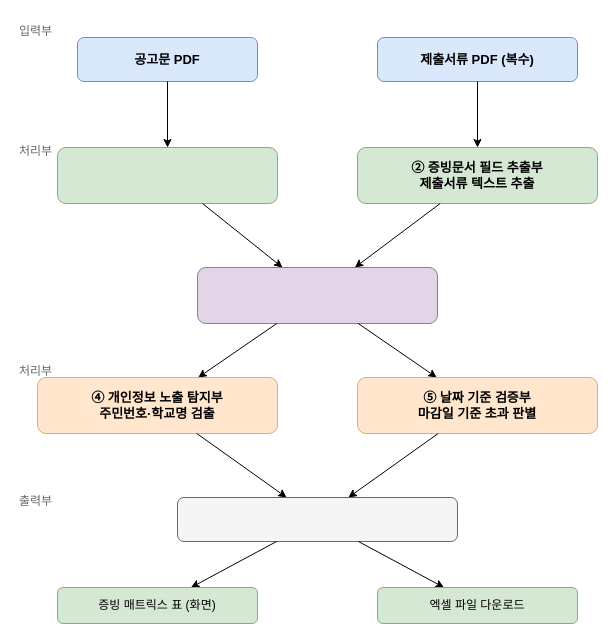
This 615x641 diagram has some shape labels left out. Here are the shapes that lost their labels. From the top down, the box of each, then its label:
(56, 146, 278, 204): ① 요건 문장 추출부 공고문 키워드 추출
(196, 266, 438, 324): ③ 요건-증빙 매칭부 1:1 매칭·누락 판별
(176, 496, 458, 542): ⑥ 증빙 매트릭스 출력부
